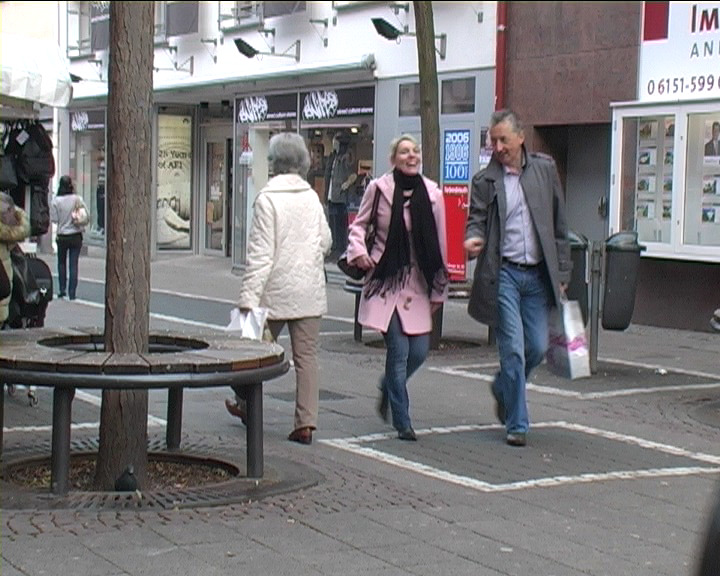deflection: (477, 107, 562, 203)
